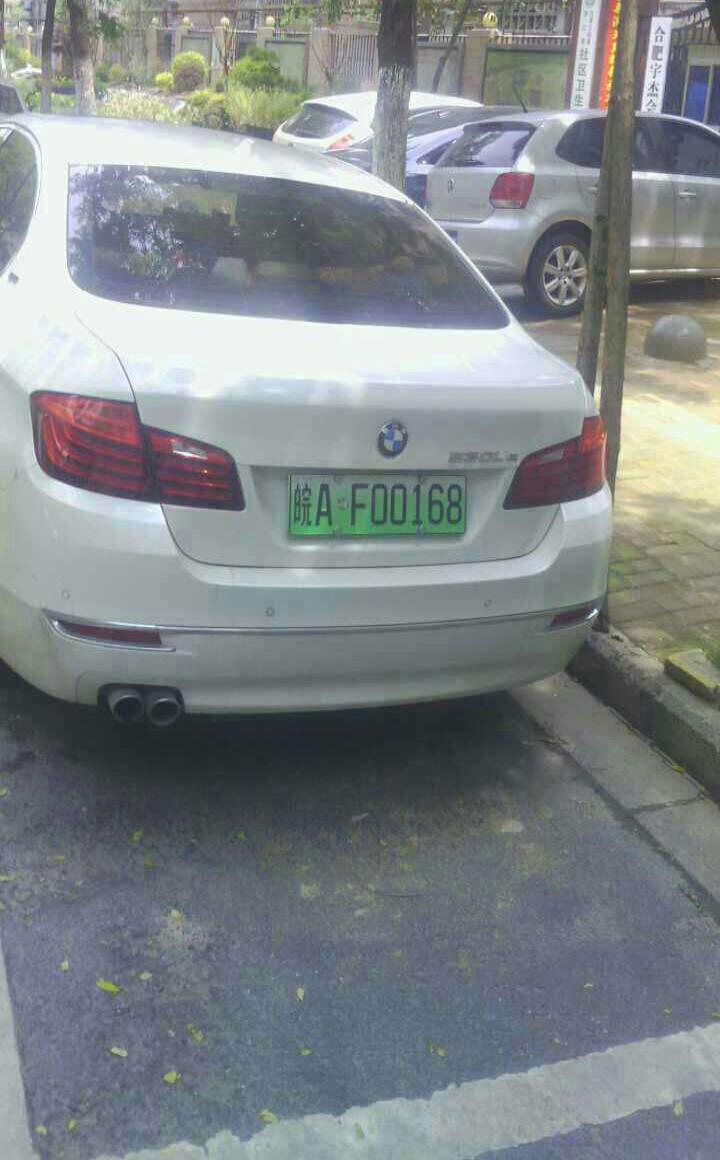car_id: (285, 472, 468, 531)
